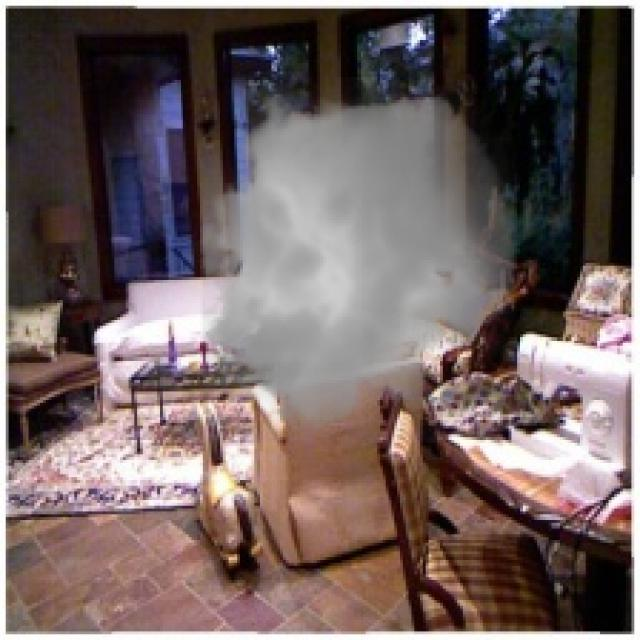smoke: (186, 77, 528, 443)
